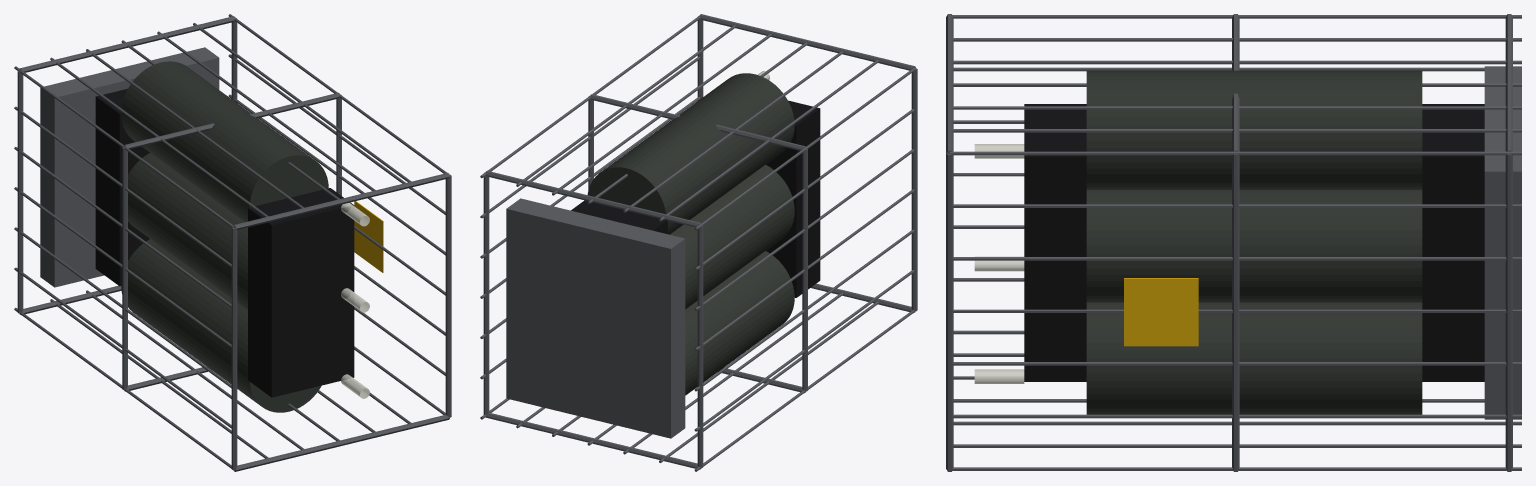
File: transformer.glb
3 renders of one model, left to right at view 1: azimuth 30°, elevation 25°; view 2: azimuth 150°, elevation 25°; view 3: azimuth 270°, elevation 25°, orthographic. The views are drawn at different scales.
Visible parts, largest first — view 1: transformer; view 2: transformer; view 3: transformer.
Part boxes in pixels (bbox=[...]): transformer: bbox=[14, 14, 451, 471]; transformer: bbox=[480, 14, 917, 471]; transformer: bbox=[946, 14, 1521, 471].
Bounding box in the file's own units: 1.33 × 1.48 × 2.32.
